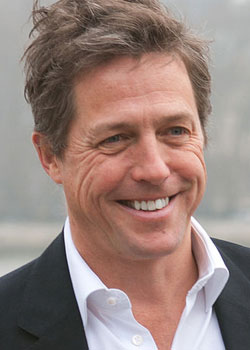without_mask: (89, 108, 200, 250)
